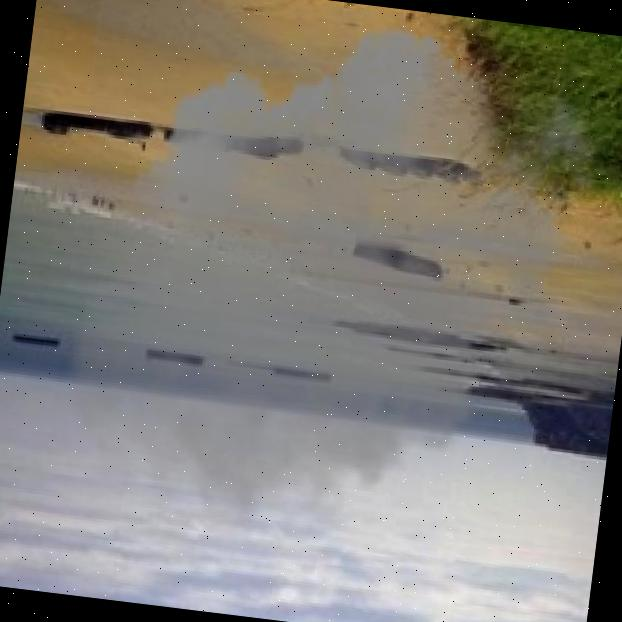smoke: (35, 0, 622, 589)
